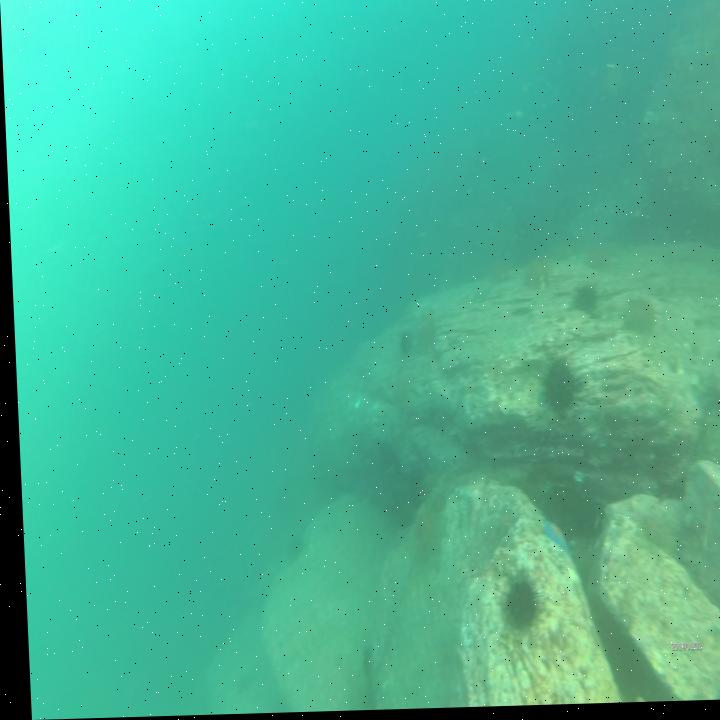echinus: (533, 362, 578, 423), (494, 573, 536, 632), (619, 293, 659, 346), (568, 285, 592, 321)
starfish: (534, 517, 562, 551)
